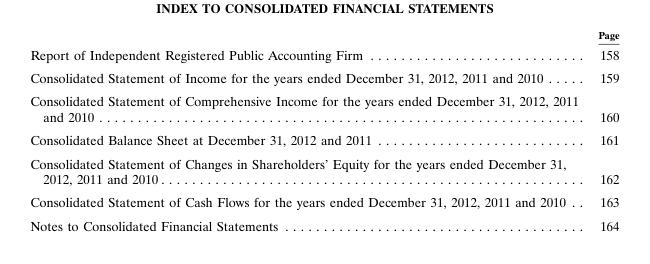table: (29, 28, 618, 232)
table column: (29, 28, 587, 232), (587, 28, 618, 232)
table column header: (29, 28, 618, 43)
table row: (29, 89, 618, 128), (29, 151, 618, 190), (29, 43, 618, 66), (29, 66, 618, 89), (29, 128, 618, 151), (29, 190, 618, 213), (29, 213, 618, 232), (29, 28, 618, 43)
